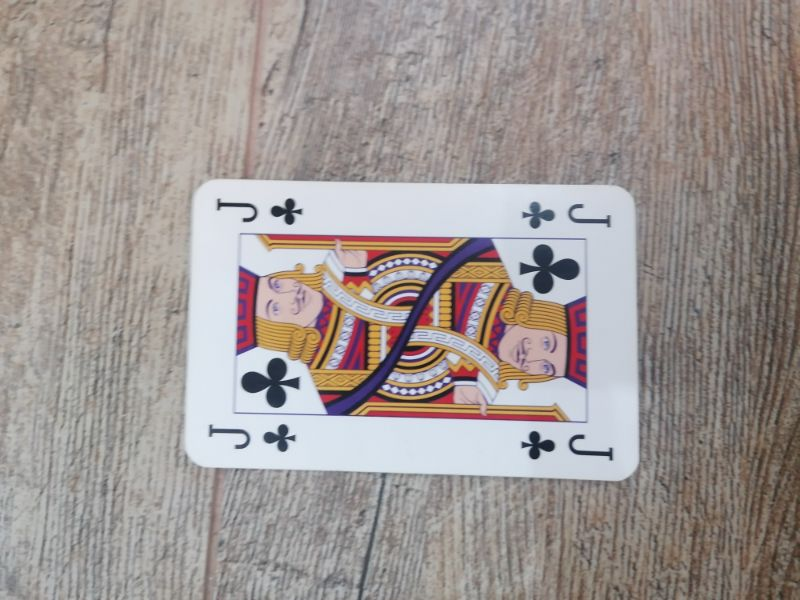Jc: (517, 193, 620, 239), (209, 190, 308, 232), (517, 426, 617, 467), (200, 421, 302, 456)
